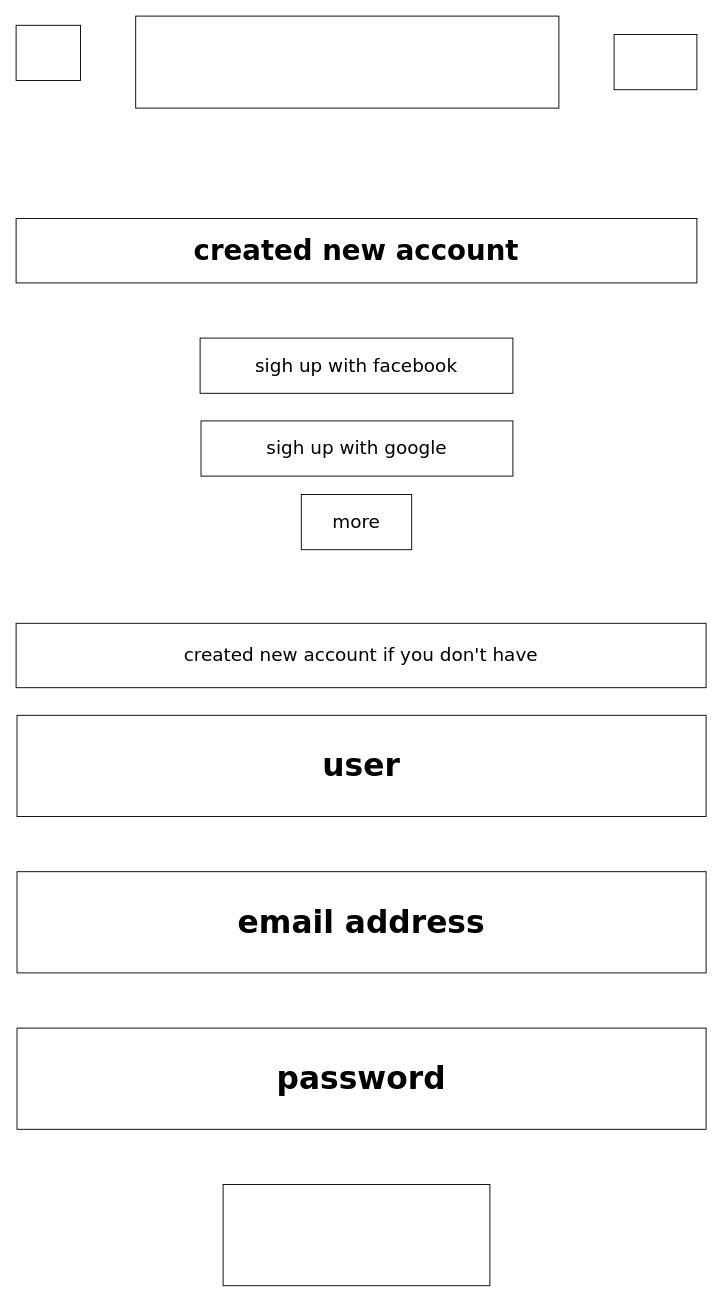
Image size: 722x1302. Some labels were removed from this diagram. Each missing label, with the box of its shape:
hbg menu: (15, 24, 80, 80)
logo: (135, 15, 559, 108)
search: (613, 34, 697, 90)
sigh up: (222, 1184, 490, 1286)
